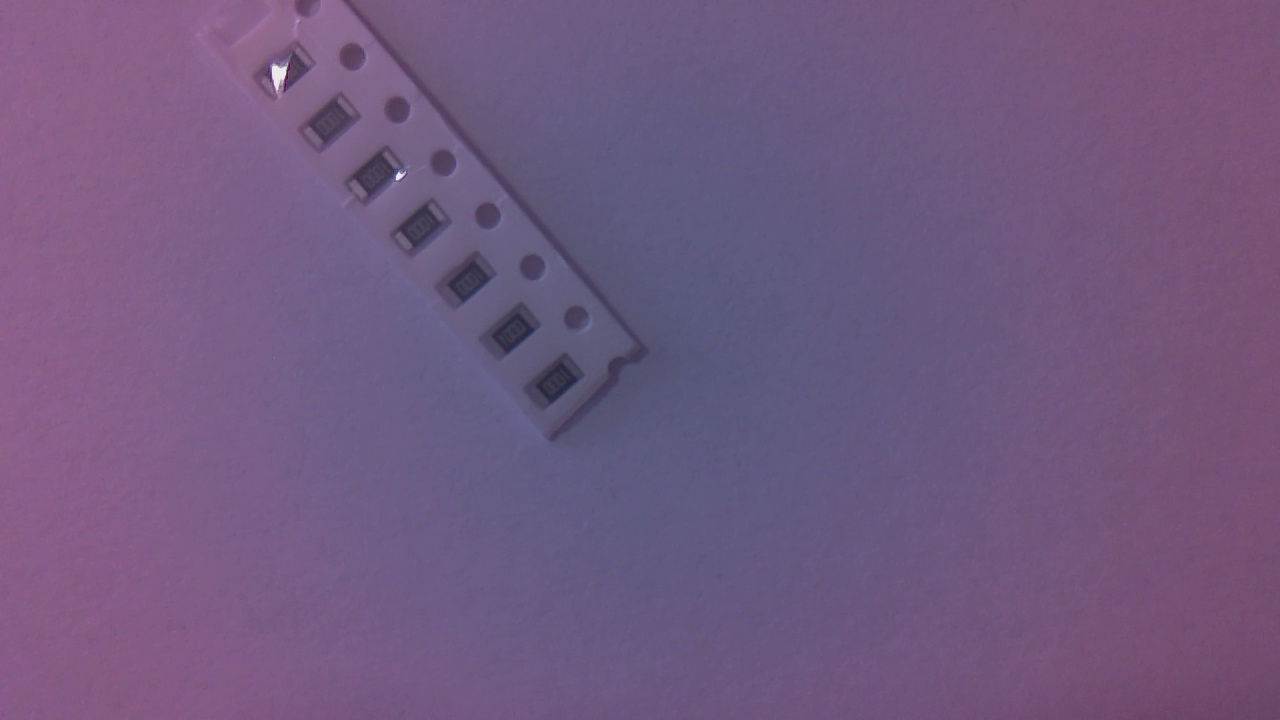Resistor: (259, 43, 322, 108), (441, 252, 501, 319), (351, 148, 409, 216), (395, 202, 455, 267), (306, 98, 364, 162), (530, 357, 591, 417), (487, 305, 545, 368)
